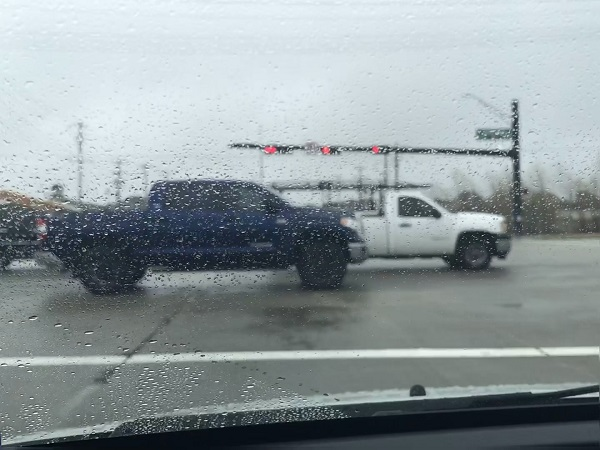traffic light: (366, 143, 381, 155), (316, 145, 331, 156), (260, 145, 276, 154)
truck: (31, 180, 368, 290), (320, 188, 511, 272)
